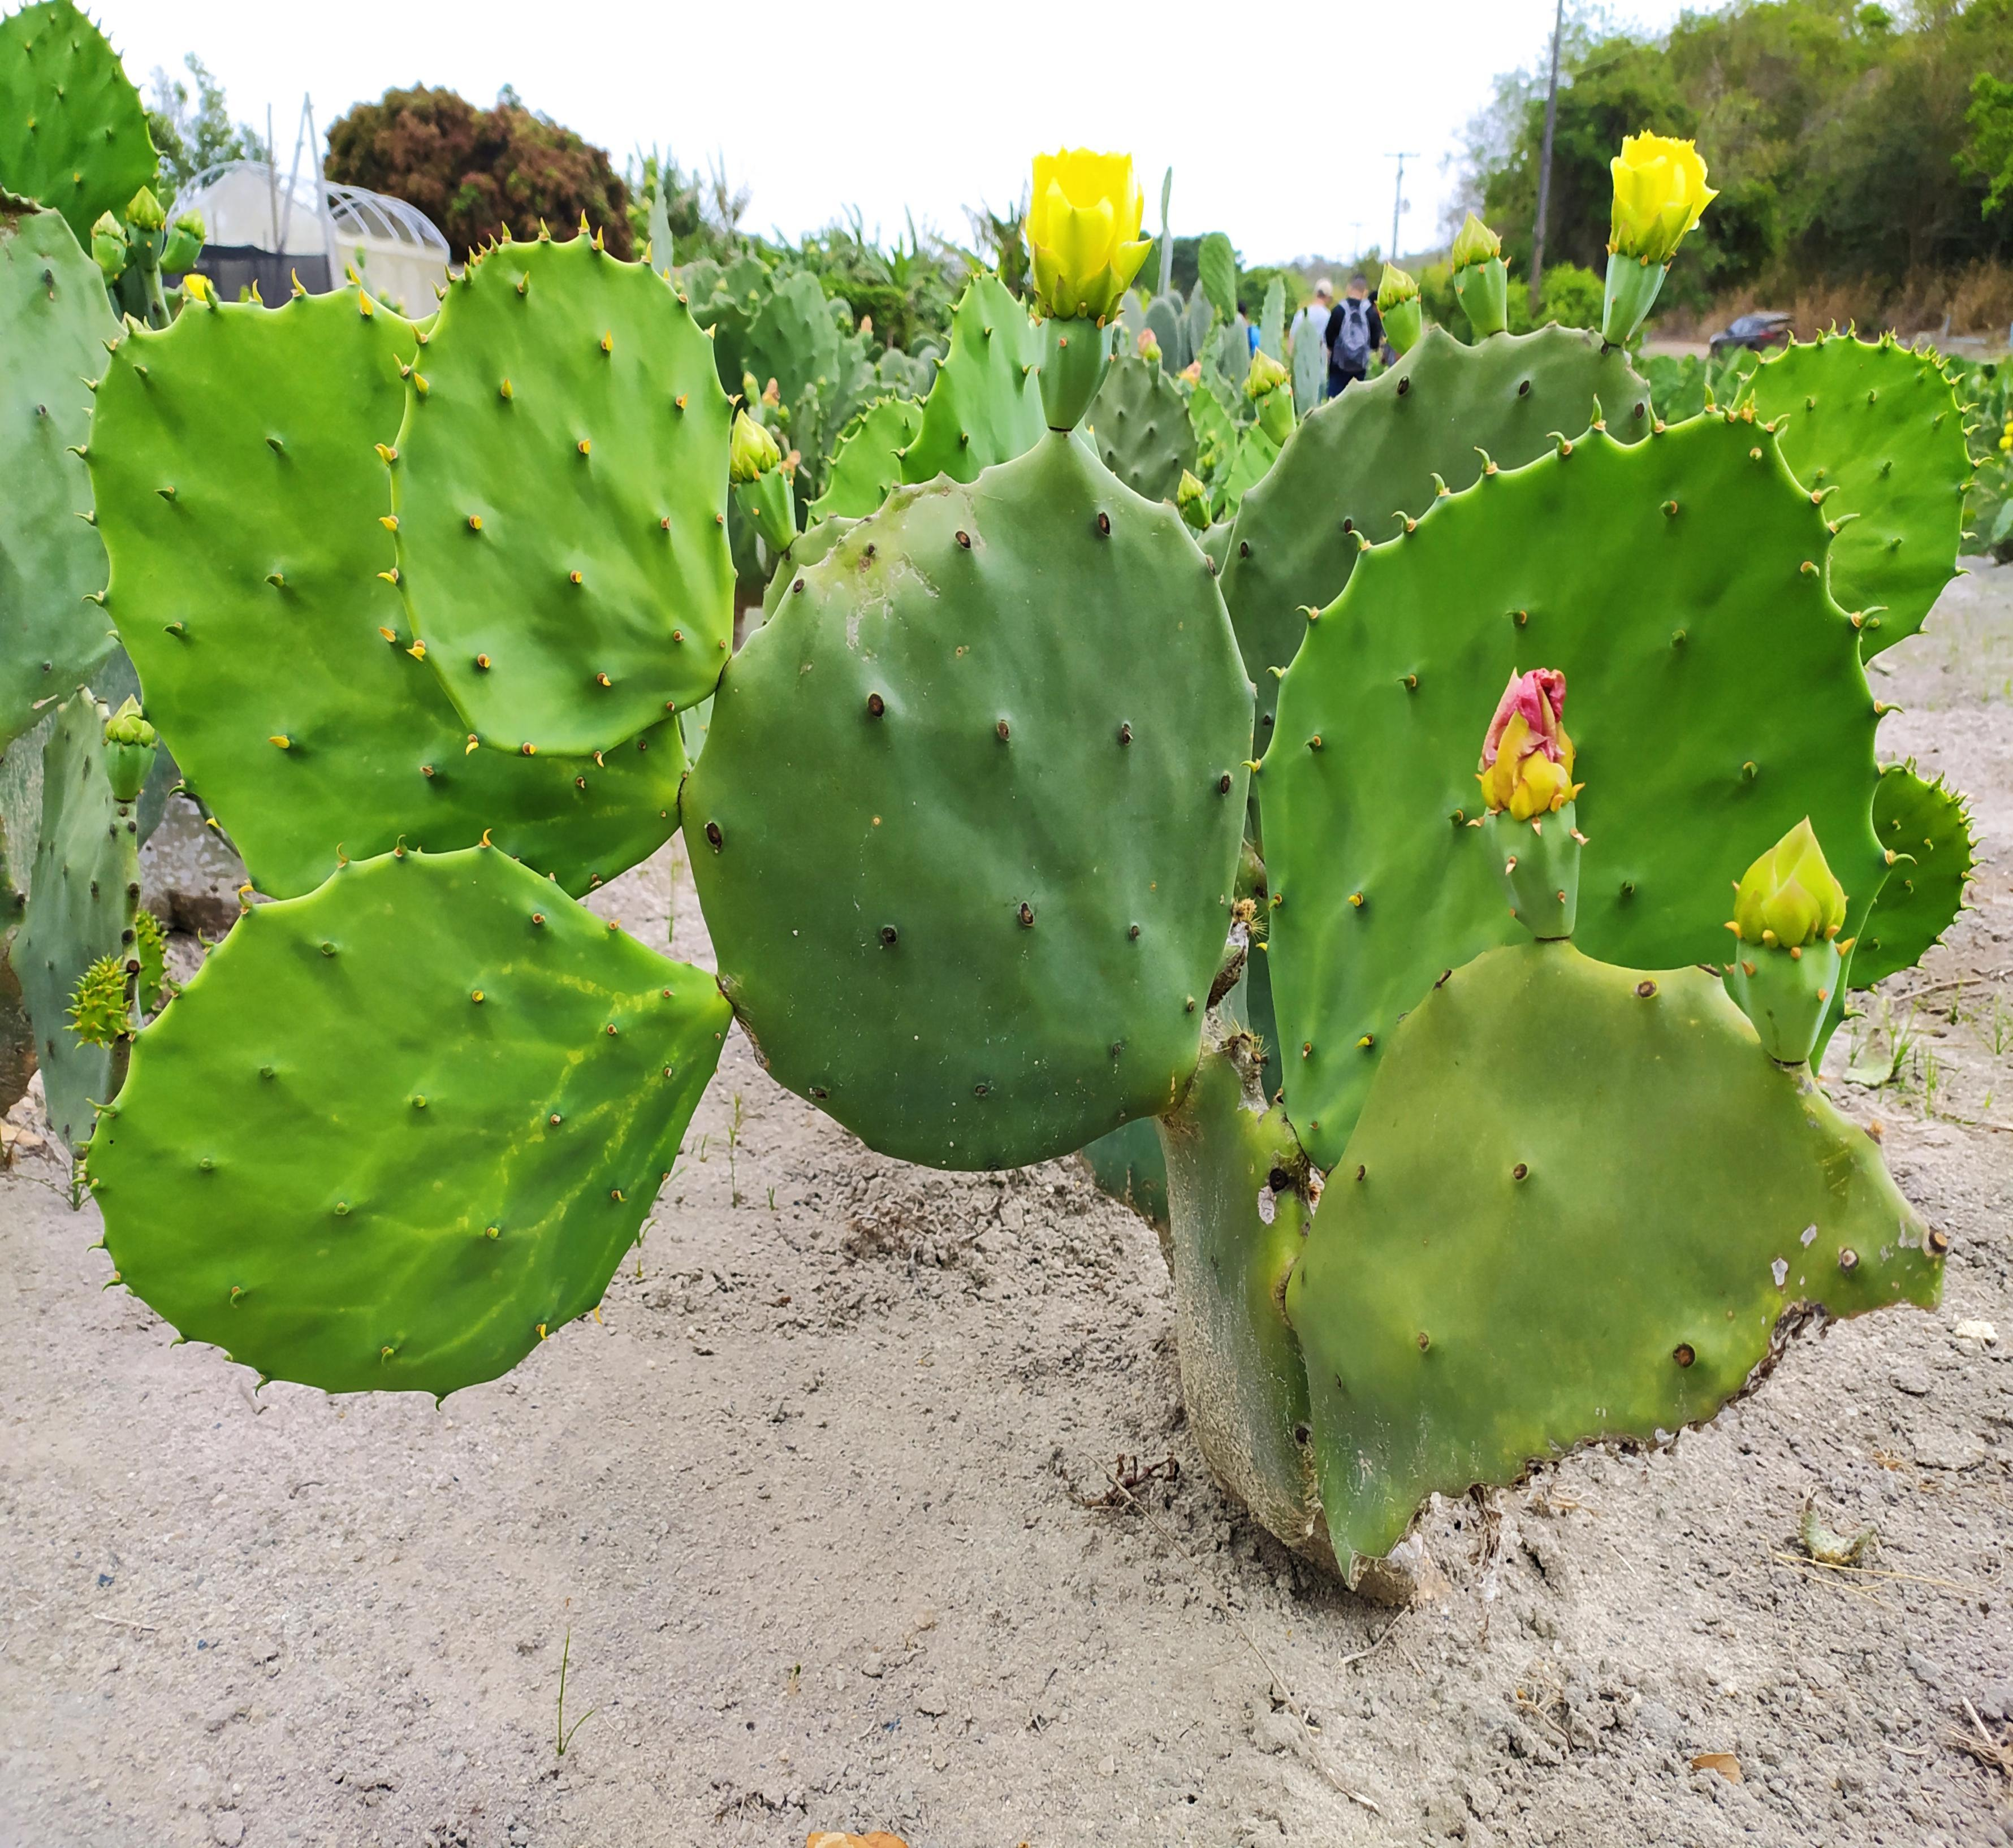impropria: (1324, 415, 1898, 1133), (1322, 942, 1940, 1539), (1278, 270, 1716, 794), (813, 225, 1227, 474), (1734, 306, 1994, 659)
propria: (21, 835, 767, 1400), (736, 465, 1259, 1184), (98, 310, 688, 907), (405, 241, 763, 785), (1, 5, 167, 235), (1847, 771, 1990, 992)
